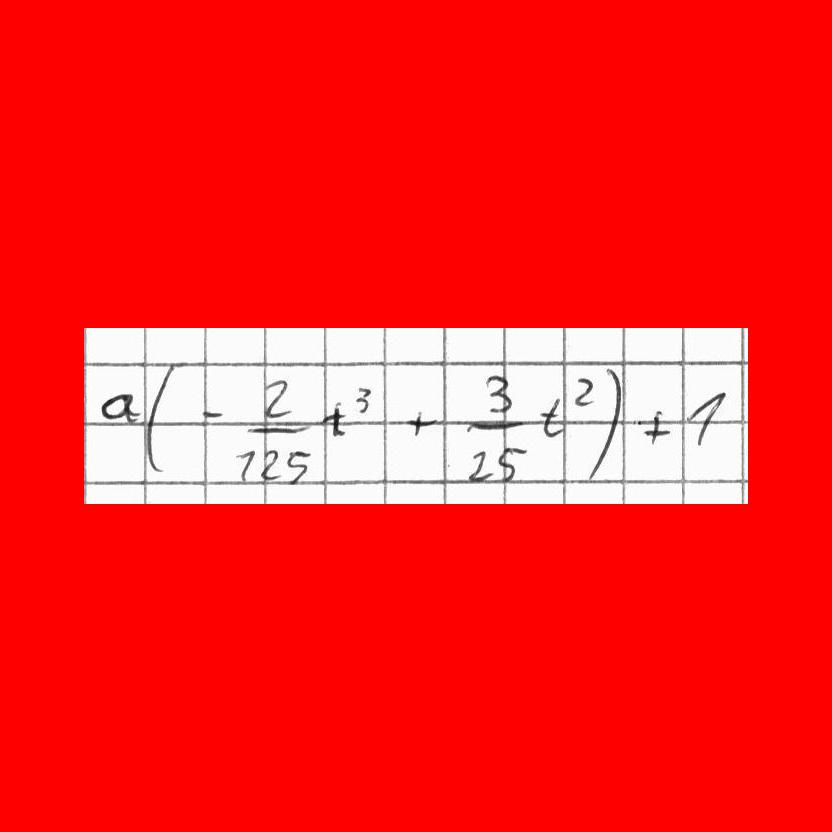Char: (139, 367, 177, 468), (591, 364, 621, 481), (687, 388, 727, 450), (479, 372, 517, 416), (239, 417, 319, 437), (100, 389, 138, 425), (495, 444, 528, 483), (261, 377, 291, 415), (468, 448, 500, 483), (539, 396, 564, 440), (283, 448, 311, 485), (645, 404, 671, 443), (410, 406, 436, 439), (234, 448, 256, 483), (322, 402, 343, 438), (573, 374, 594, 408), (465, 421, 524, 432), (261, 447, 279, 482), (354, 384, 374, 411), (197, 404, 226, 421)
